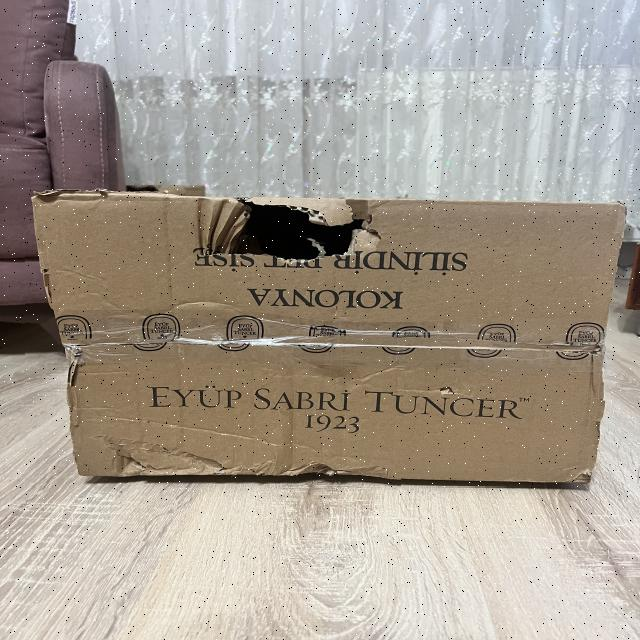damaged: (25, 185, 620, 488), (182, 180, 400, 274), (72, 426, 401, 488)
